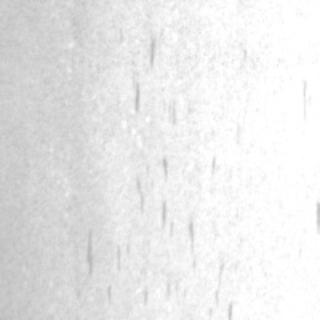inclusion: (117, 149, 211, 297)
